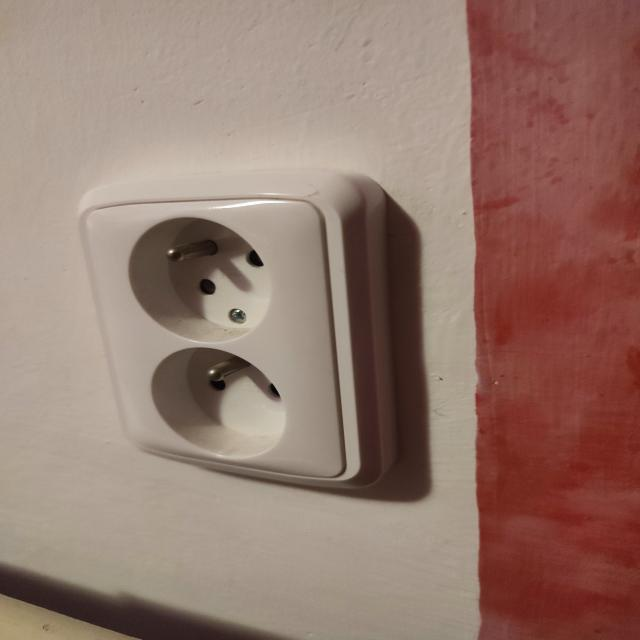house plug: (112, 207, 290, 346), (133, 346, 297, 469)
